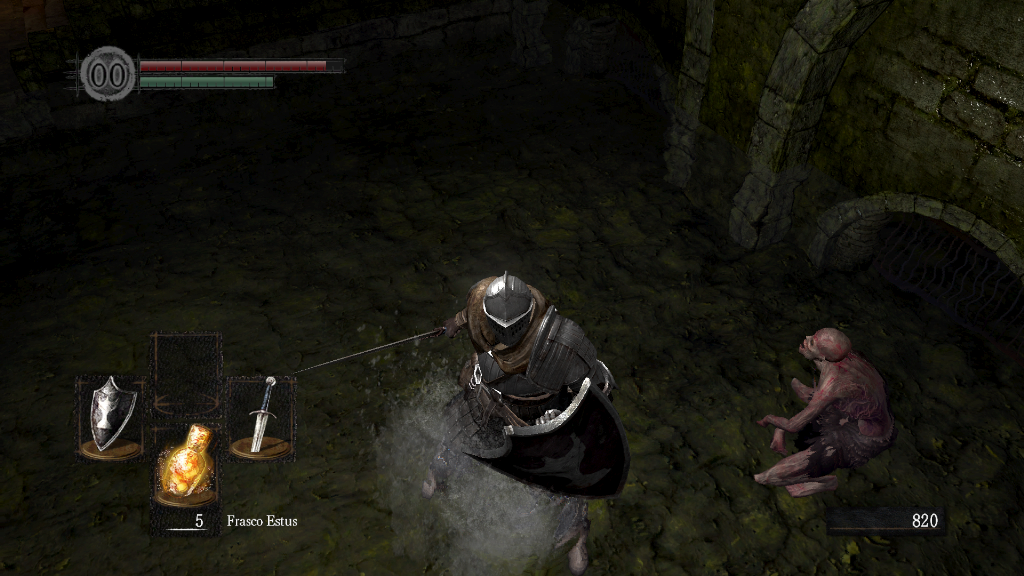health: (138, 58, 343, 71)
hollow: (747, 327, 900, 498)
humanity: (80, 45, 136, 102)
player: (290, 271, 630, 576)
souls: (825, 506, 945, 536)
stamina: (138, 74, 274, 88)
